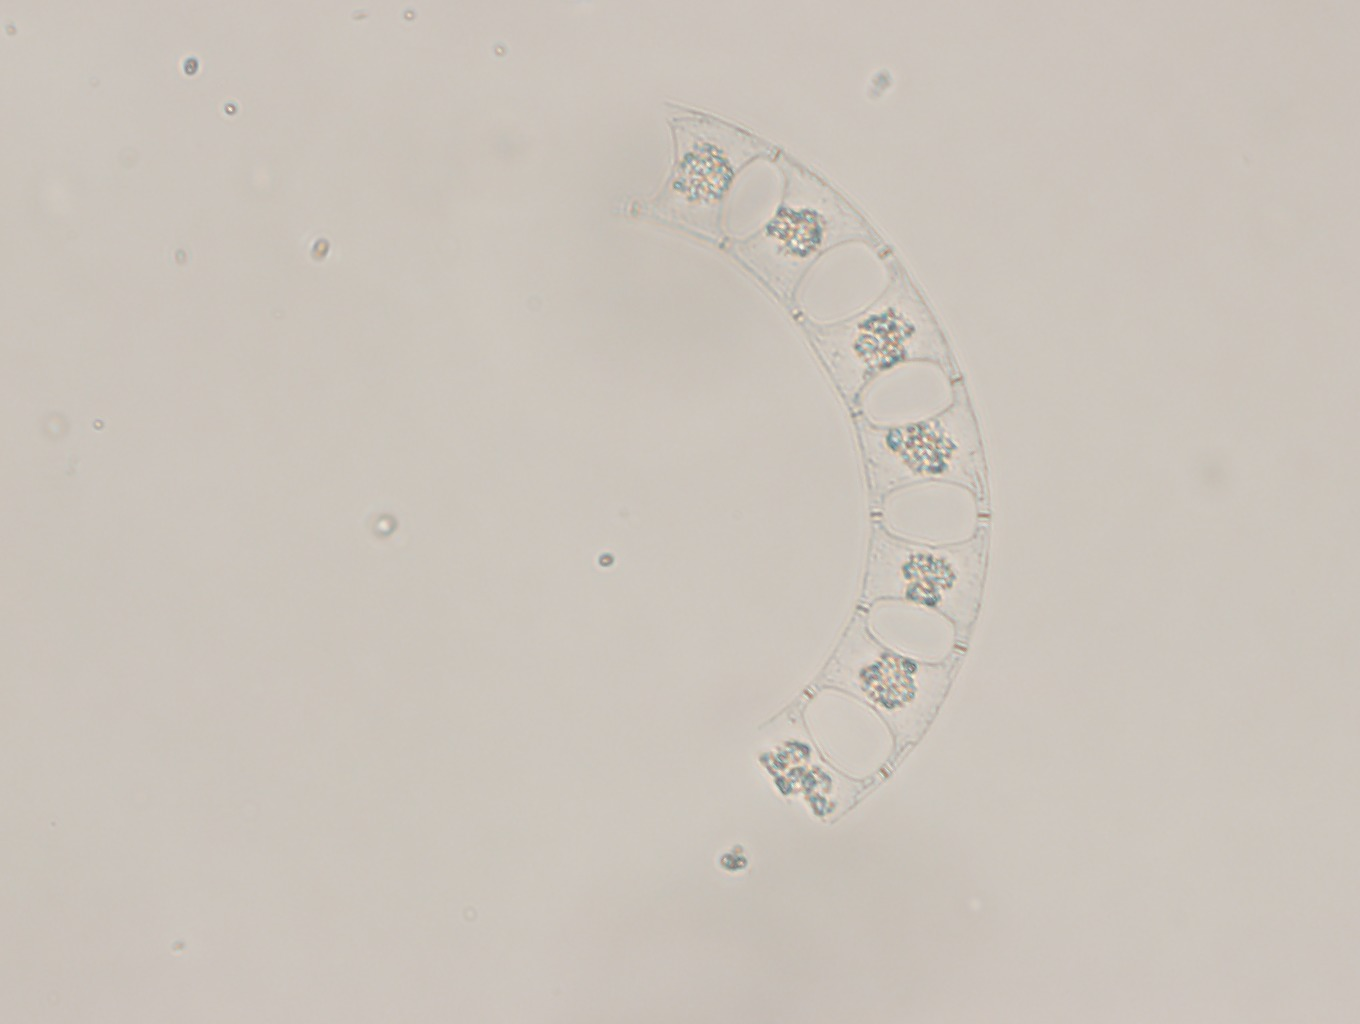eucampia: (619, 89, 1001, 835)
